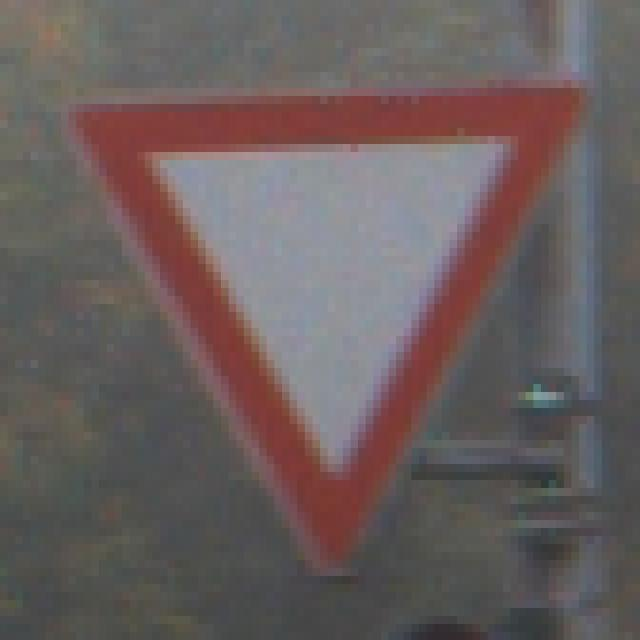Give Way: (62, 65, 588, 585)
